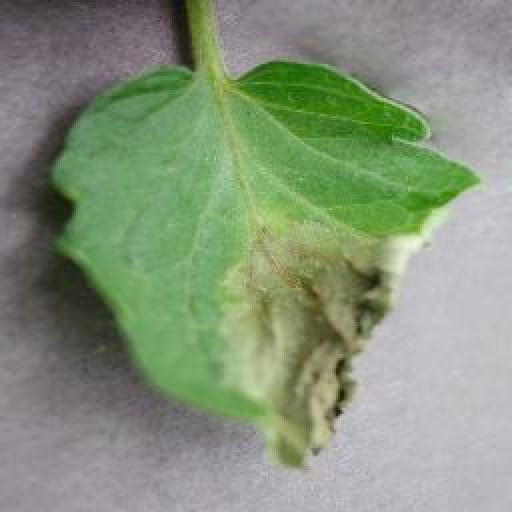disease_tomato: (48, 58, 478, 472)
